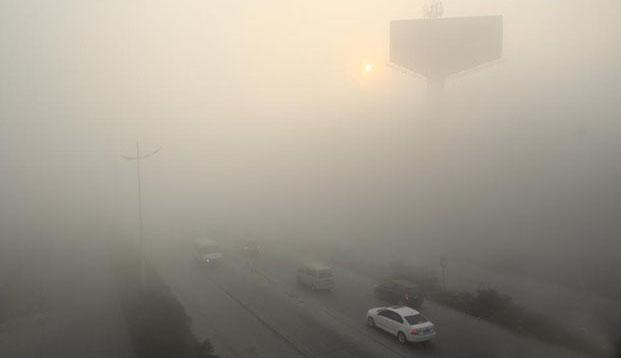car: (366, 303, 437, 345), (373, 279, 425, 309), (295, 261, 337, 292), (193, 240, 224, 269)
